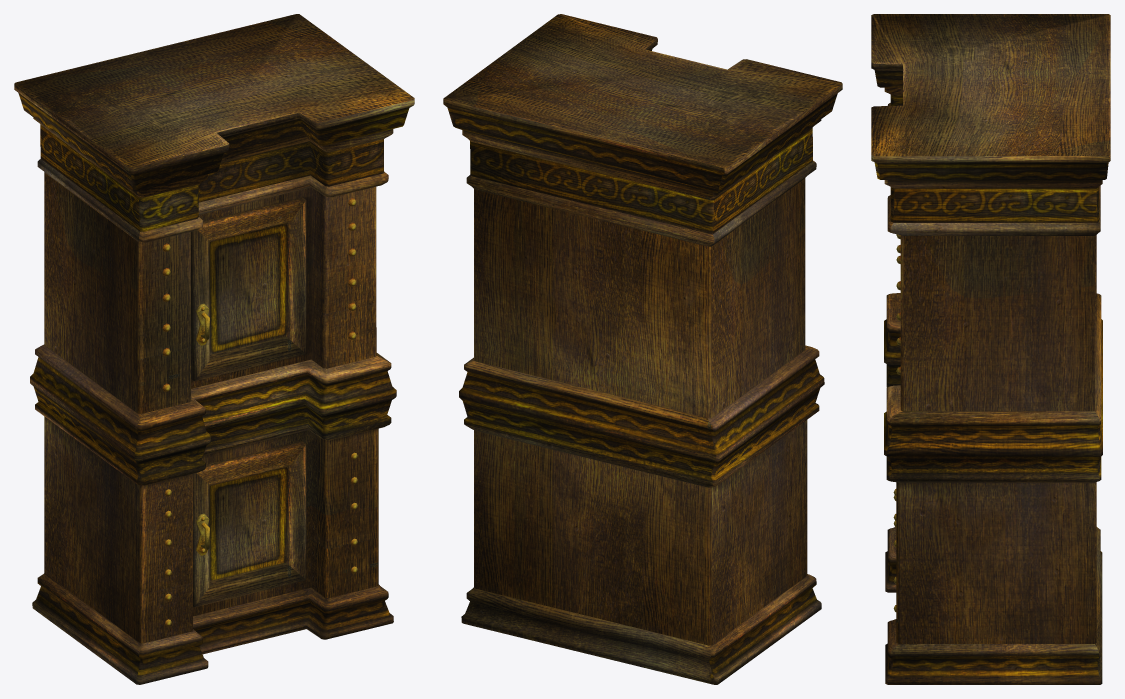
File: Cabinet_B.obj
The picture shows the model from 3 angles, left to right: view 1: azimuth 30°, elevation 25°; view 2: azimuth 150°, elevation 25°; view 3: azimuth 270°, elevation 25°; orthographic projection. The views are drawn at different scales.
Parts seen in each view (by area): view 1: Cabinet_B; view 2: Cabinet_B; view 3: Cabinet_B.
Boxes of the visible parts, x1,y1,x2,y2 form: Cabinet_B: (14, 14, 414, 684); Cabinet_B: (443, 14, 842, 684); Cabinet_B: (871, 14, 1110, 684).
Bounding box in the file's own units: 124 × 217 × 88.
